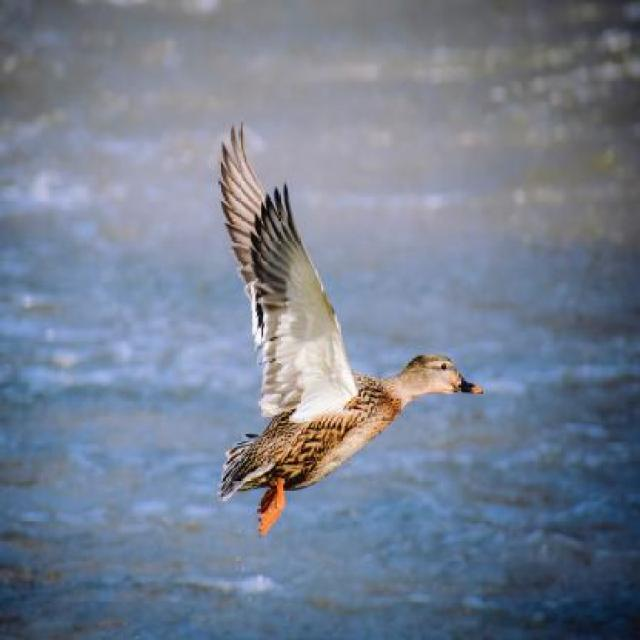bird: (218, 120, 484, 542)
